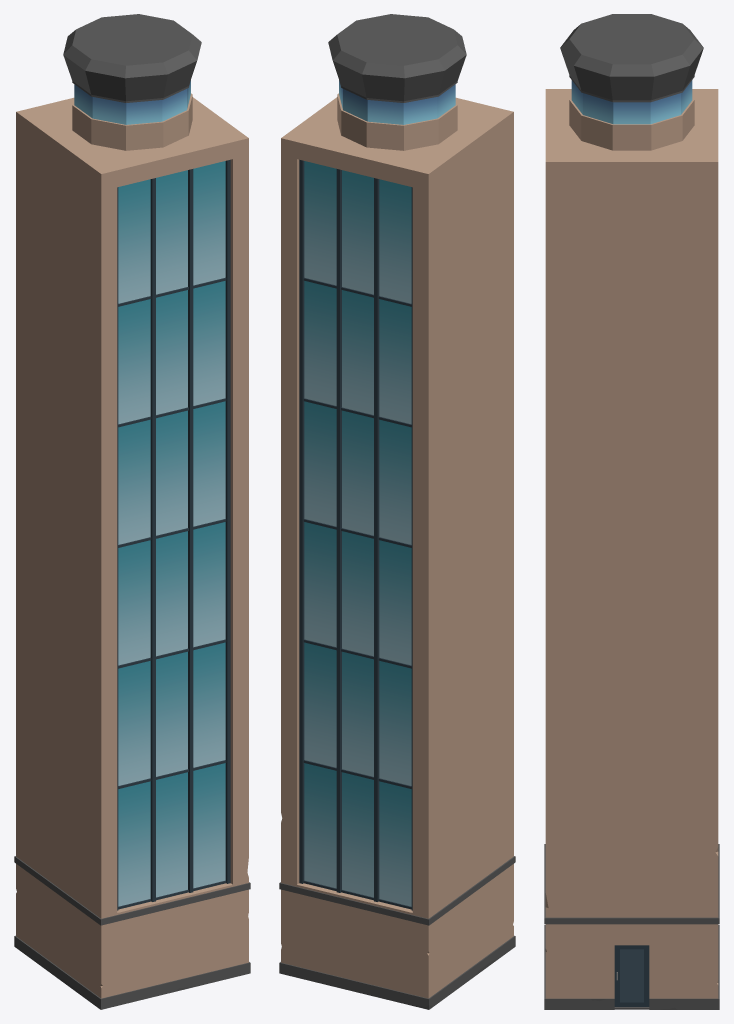
File: SM_Buildings_Airport_02.fbx
3 views of the same model, side by side, from view 1: azimuth 30°, elevation 25°; view 2: azimuth 150°, elevation 25°; view 3: azimuth 270°, elevation 25° (orthographic).
Visible parts, largest first — view 1: SM_Buildings_Airport_02; view 2: SM_Buildings_Airport_02; view 3: SM_Buildings_Airport_02.
Part boxes in pixels (x1=…): SM_Buildings_Airport_02: x1=14, y1=14, x2=250, y2=1009; SM_Buildings_Airport_02: x1=279, y1=14, x2=515, y2=1009; SM_Buildings_Airport_02: x1=544, y1=14, x2=719, y2=1009.
Size of the model in its own units: 5.07 by 29.78 by 5.07.
